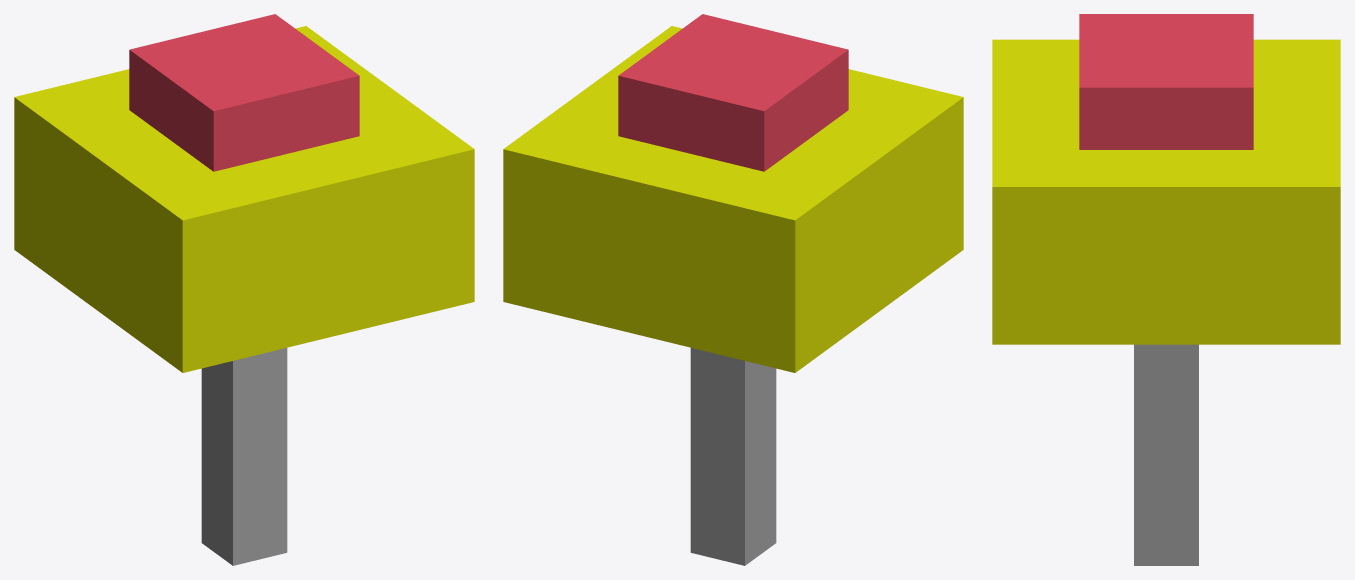
The model's file is bouncer.fbx.
The picture shows the model from 3 angles, left to right: view 1: azimuth 30°, elevation 25°; view 2: azimuth 150°, elevation 25°; view 3: azimuth 270°, elevation 25°; orthographic projection. The views are drawn at different scales.
Parts seen in each view (by area): view 1: pCube1; view 2: pCube1; view 3: pCube1.
Boxes of the visible parts, x1,y1,x2,y2 form: pCube1: [14, 14, 474, 565]; pCube1: [503, 14, 963, 565]; pCube1: [992, 14, 1340, 565].
Bounding box in the file's own units: 5.38 × 8.54 × 5.38.
